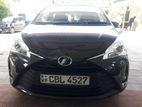car: (7, 5, 130, 99)
